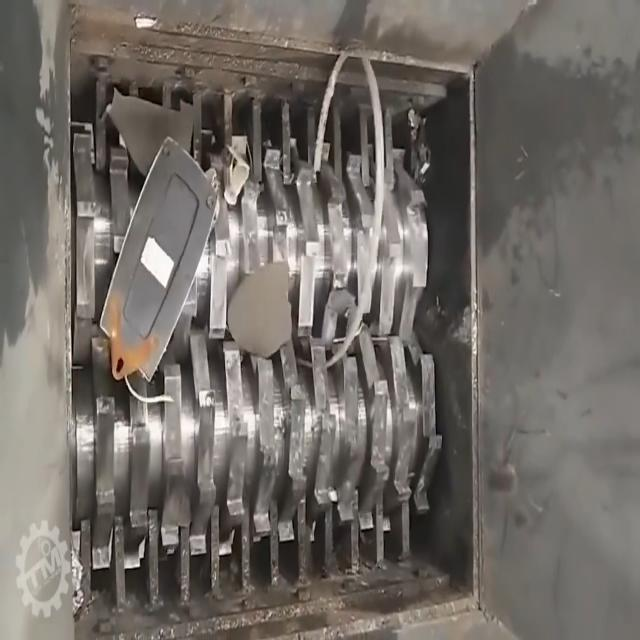Broyeur: (61, 7, 503, 640)
